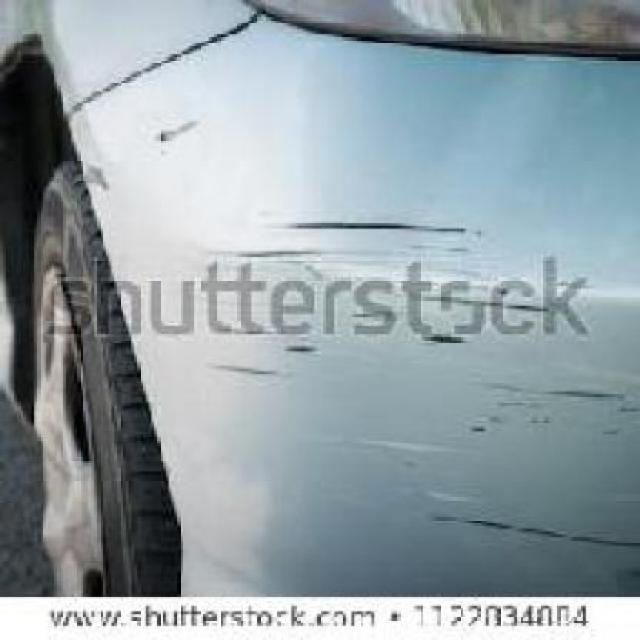dent-or-scratch: (224, 185, 476, 266)
